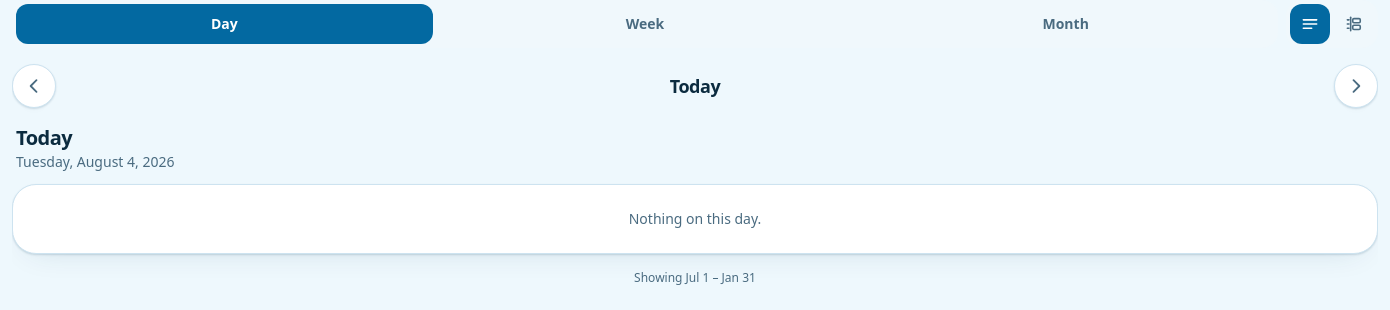
Test case: the calendar board › offers a way back once you have navigated away
Expected: the text "Back to today" is not shown
Click the button named "Next": [1356, 86] box [1334,64,1378,108]
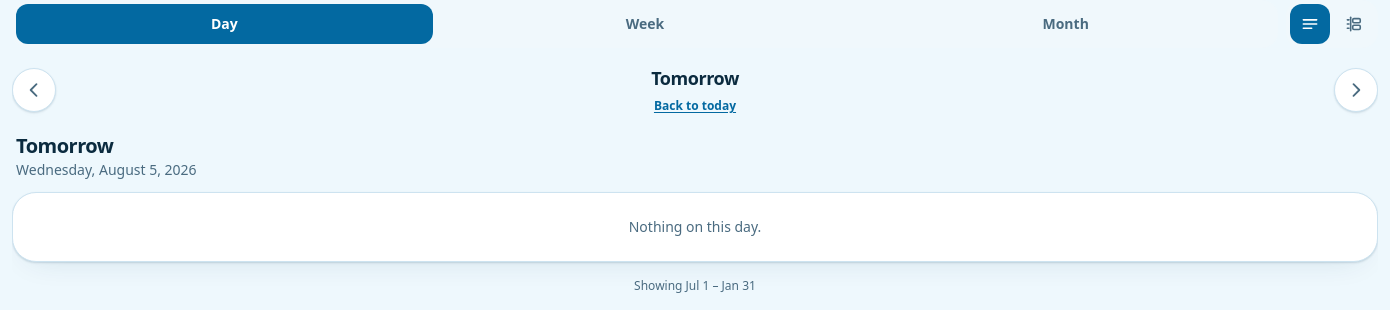
Click the button "Back to today": [695, 106] box [654,98,736,114]
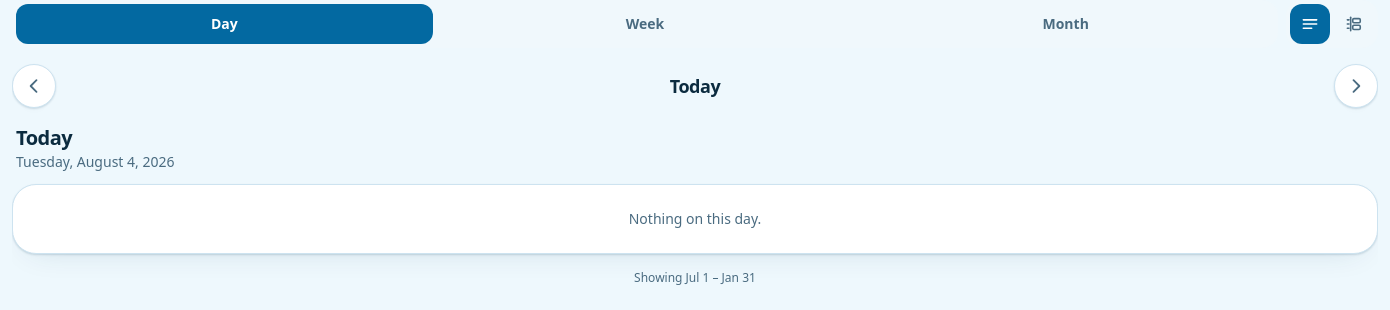
Expected: the button "Back to today" is gone
